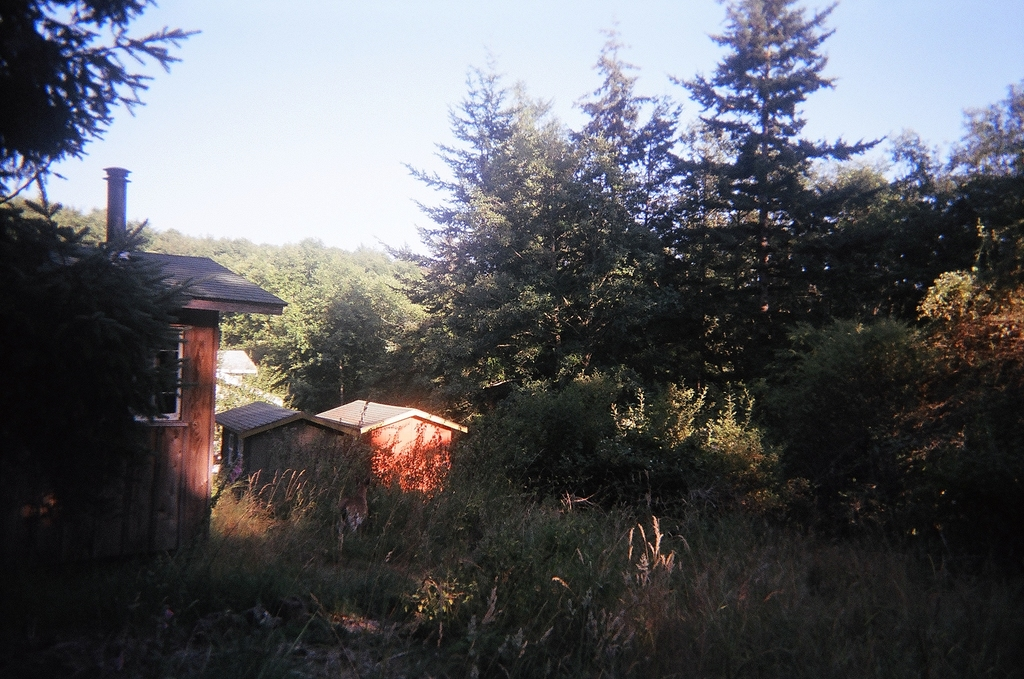Tree: (348, 39, 950, 565), (0, 0, 196, 225)
